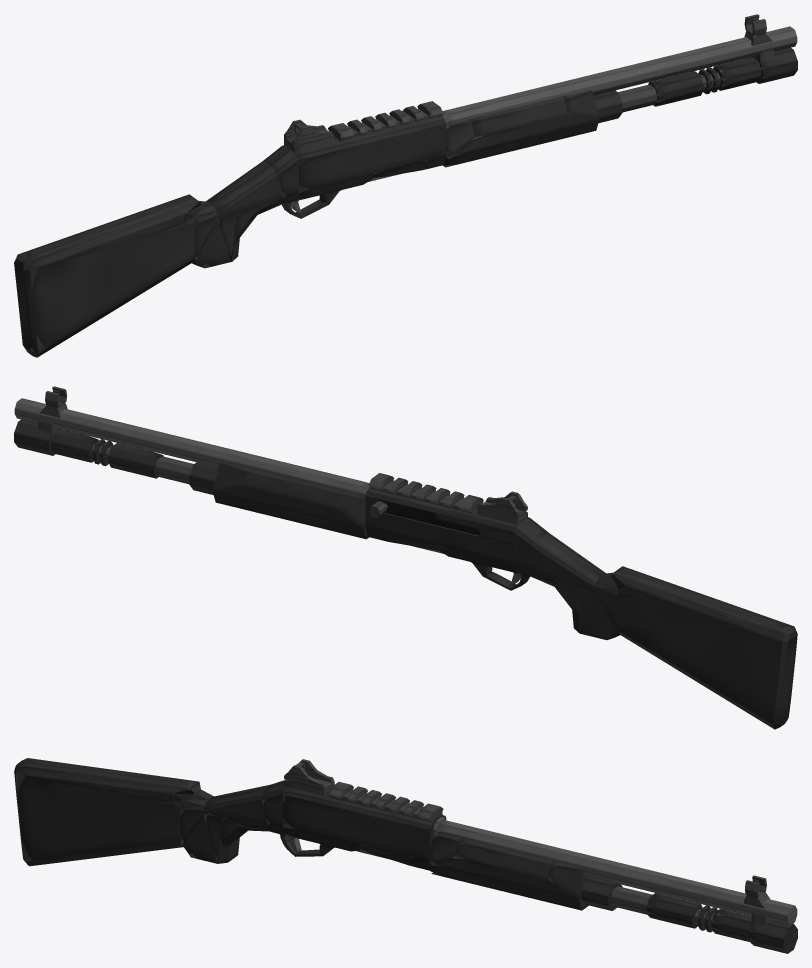
The model's file is benellim4.obj.
The picture shows the model from 3 angles, top to bottom: view 1: azimuth 30°, elevation 25°; view 2: azimuth 150°, elevation 25°; view 3: azimuth 330°, elevation 25°; orthographic projection.
Parts seen in each view (by area): view 1: gunModel18, gunModel77, defaultBarrelModel0, gunModel33, defaultBarrelModel2, gunModel40, gunModel41, gunModel21, gunModel37, gunModel34, gunModel12, gunModel25 (+11 smaller); view 2: gunModel18, defaultBarrelModel0, gunModel90, gunModel33, defaultBarrelModel2, gunModel40, gunModel41, gunModel21, gunModel37, gunModel34, gunModel12, gunModel25 (+12 smaller); view 3: gunModel18, gunModel77, defaultBarrelModel0, defaultBarrelModel2, gunModel40, gunModel41, gunModel33, gunModel37, gunModel21, gunModel24, gunModel25, defaultBarrelModel1 (+23 smaller).
Part boxes in pixels (x1,y1,x2,y2): gunModel18: [22, 225, 194, 352]; gunModel77: [299, 124, 446, 191]; defaultBarrelModel0: [442, 26, 796, 122]; gunModel33: [18, 194, 198, 261]; defaultBarrelModel2: [445, 37, 797, 127]; gunModel40: [447, 115, 598, 156]; gunModel41: [443, 120, 599, 167]; gunModel21: [21, 202, 198, 270]; gunModel37: [472, 100, 567, 137]; gunModel34: [14, 263, 38, 352]; gunModel12: [206, 161, 275, 210]; gunModel25: [195, 220, 231, 268]; gunModel18: [617, 597, 782, 724]; defaultBarrelModel0: [15, 398, 368, 493]; gunModel90: [365, 509, 512, 562]; gunModel33: [613, 566, 793, 633]; defaultBarrelModel2: [14, 409, 364, 497]; gunModel40: [213, 487, 362, 528]; gunModel41: [213, 492, 368, 539]; gunModel21: [613, 574, 795, 642]; gunModel37: [244, 472, 340, 509]; gunModel34: [773, 635, 797, 724]; gunModel12: [536, 533, 605, 582]; gunModel25: [580, 591, 616, 639]; gunModel18: [17, 775, 185, 860]; gunModel77: [283, 797, 432, 861]; defaultBarrelModel0: [437, 820, 796, 915]; defaultBarrelModel2: [437, 831, 797, 921]; gunModel40: [428, 858, 578, 899]; gunModel41: [429, 863, 588, 910]; gunModel33: [18, 758, 198, 788]; gunModel37: [455, 842, 551, 879]; gunModel21: [16, 762, 188, 793]; gunModel24: [25, 842, 182, 866]; gunModel25: [183, 814, 217, 863]; defaultBarrelModel1: [460, 842, 796, 925].
Bounding box in the file's own units: 22.05 × 4.5 × 1.33.
